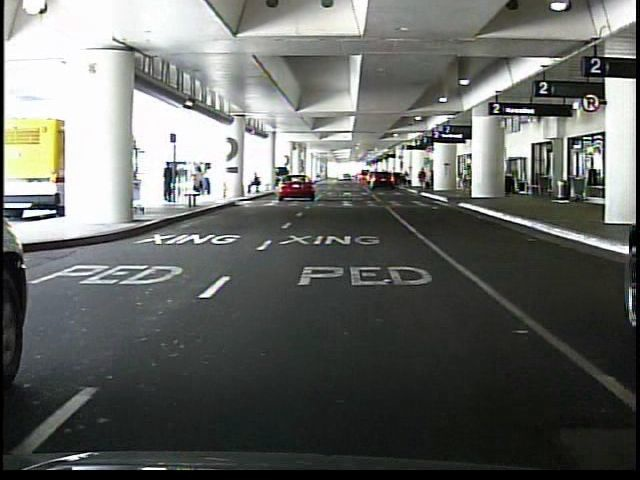person: (162, 162, 177, 205), (461, 163, 473, 196), (246, 172, 262, 196), (418, 166, 428, 192)
